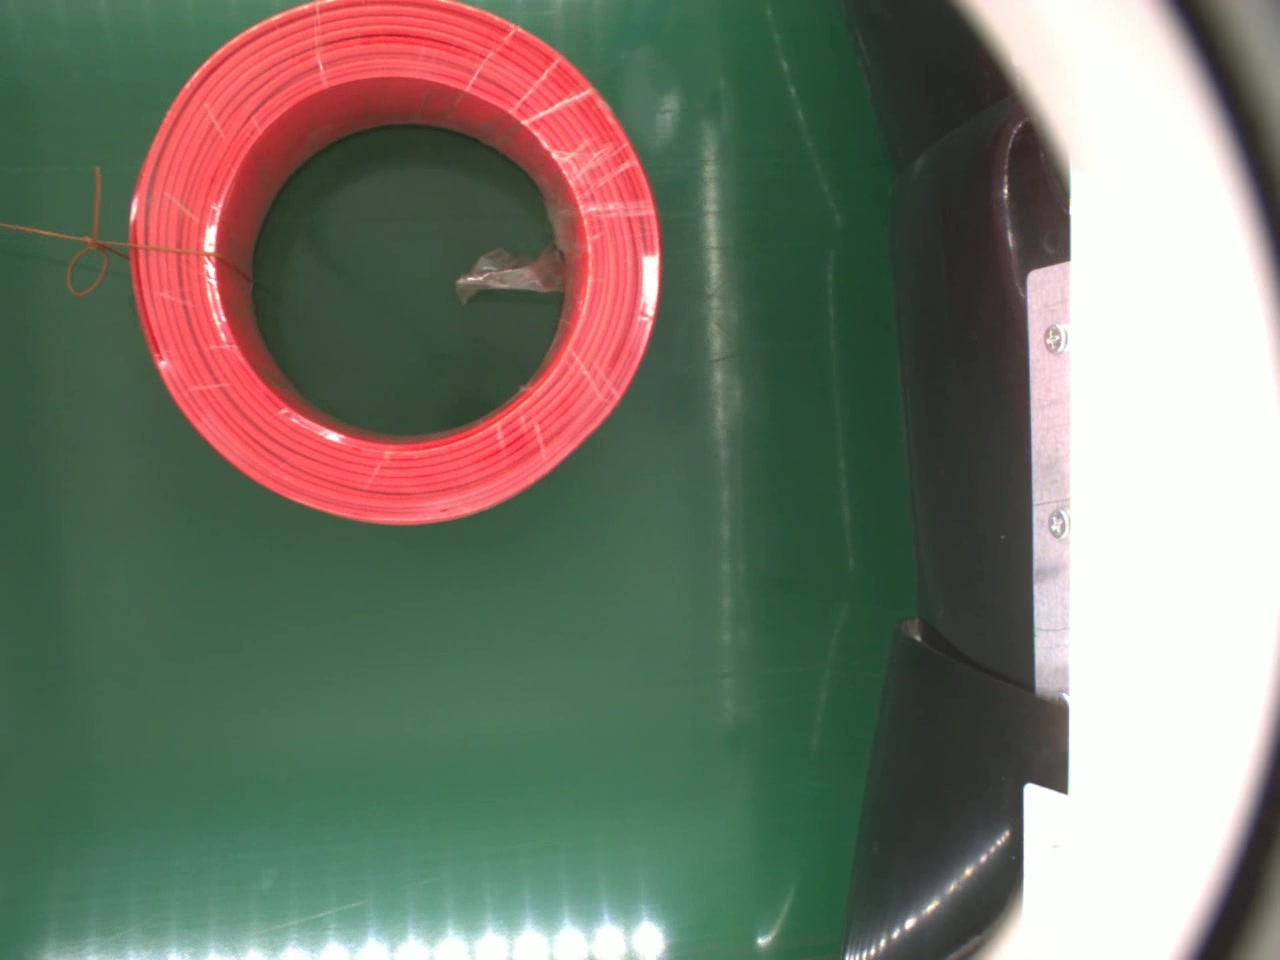red: (130, 0, 666, 529)
